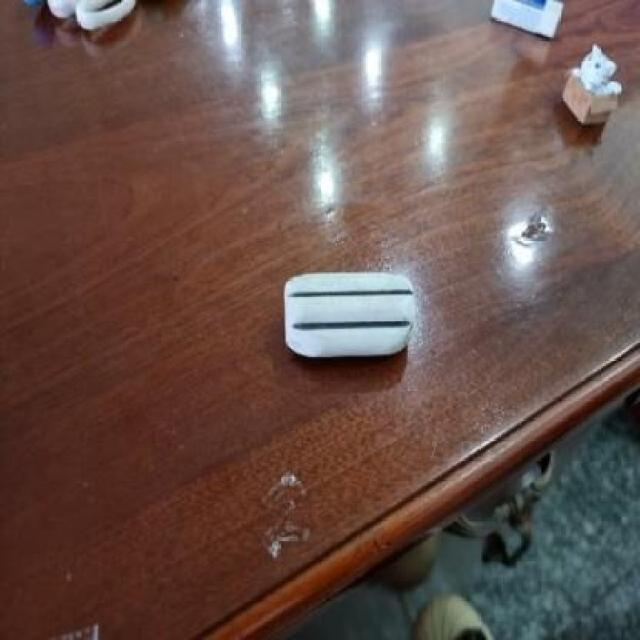not trash: (282, 265, 420, 357), (552, 45, 620, 129), (475, 0, 574, 37), (25, 0, 140, 28)
